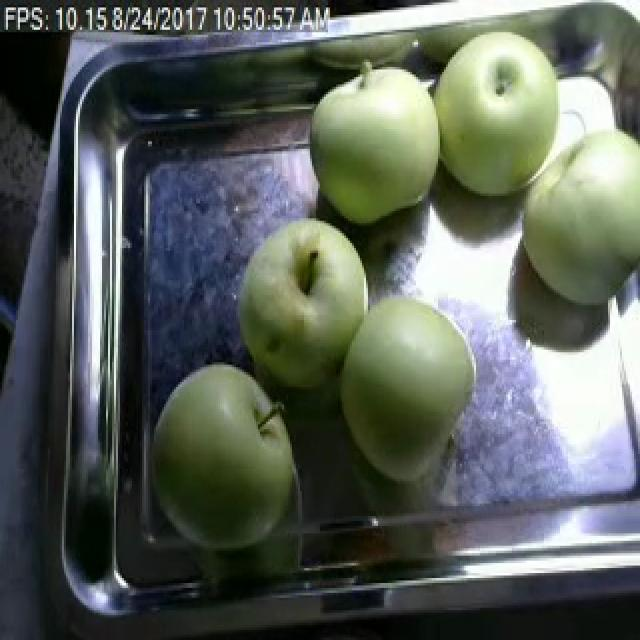50-_ripeness: (339, 282, 502, 491), (154, 350, 303, 568), (301, 66, 444, 243), (523, 116, 640, 322), (425, 17, 562, 192), (234, 206, 372, 370)
